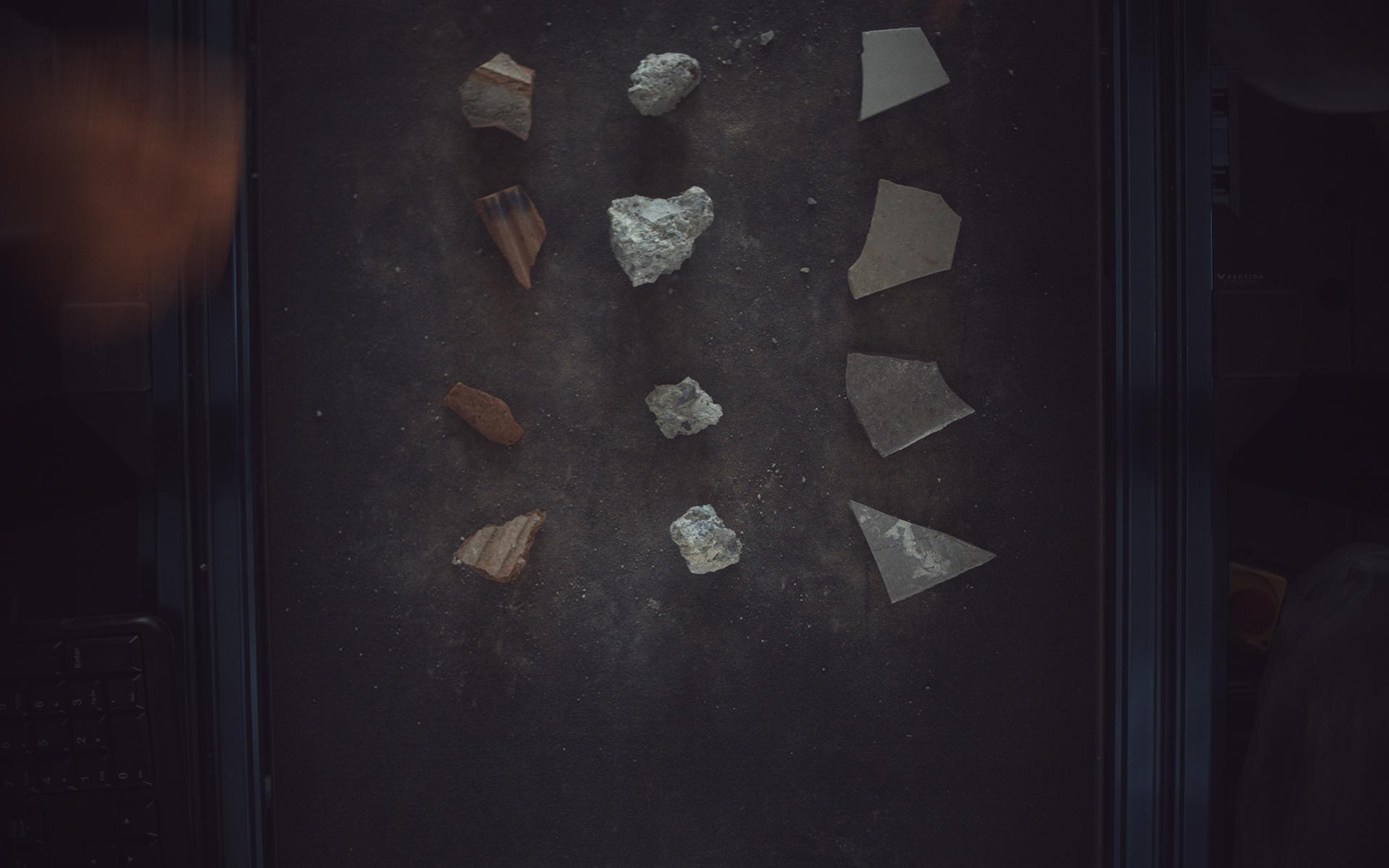brick: (475, 184, 547, 288), (460, 51, 536, 139), (453, 511, 545, 583), (443, 383, 524, 446)
concrete: (609, 186, 715, 286), (671, 505, 744, 574), (646, 378, 723, 439), (629, 51, 702, 115)
tile: (851, 501, 998, 604), (850, 179, 964, 299), (848, 353, 977, 456), (861, 26, 951, 119)
